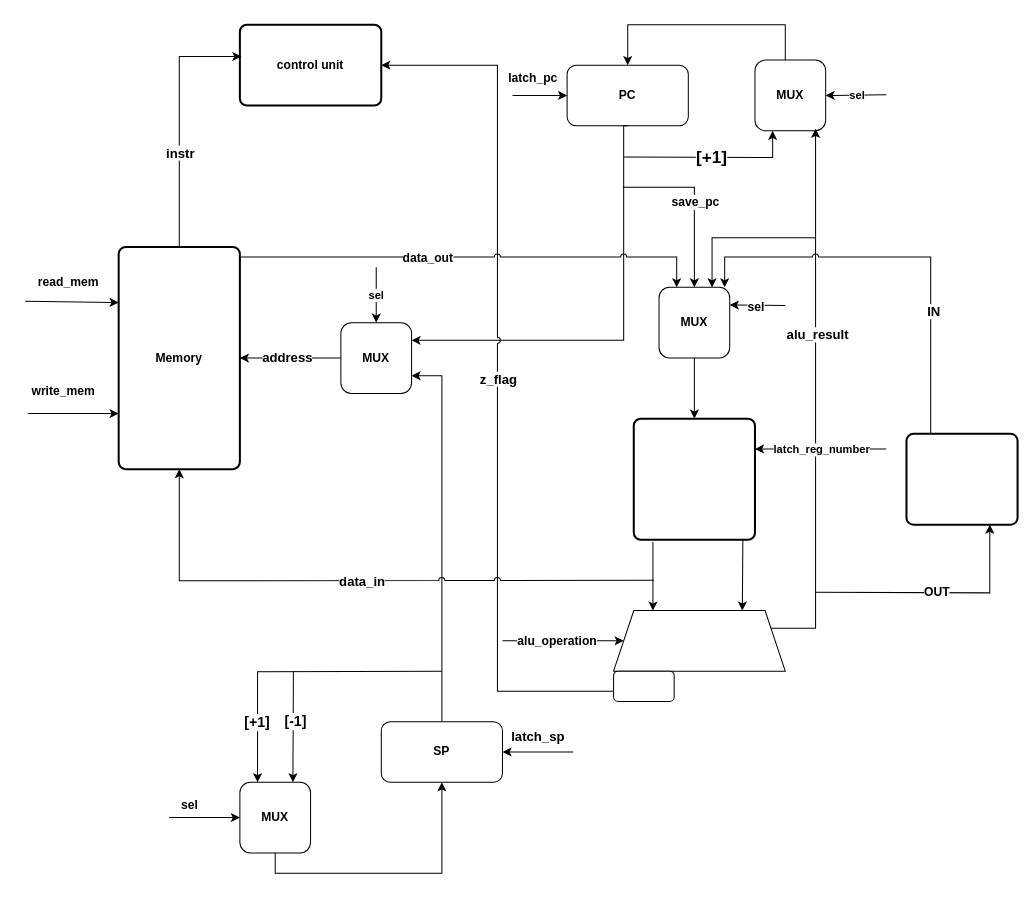
This 1036x899 diagram has some shape labels left out. The shapes that lost their labels are listed below. From the top down, each one's centre as x and y in pixels, then its label:
the point at 693,478: RegisterFile
the point at 961,478: IO CONTROLLER
the point at 699,640: ALU
the point at 643,685: zero
